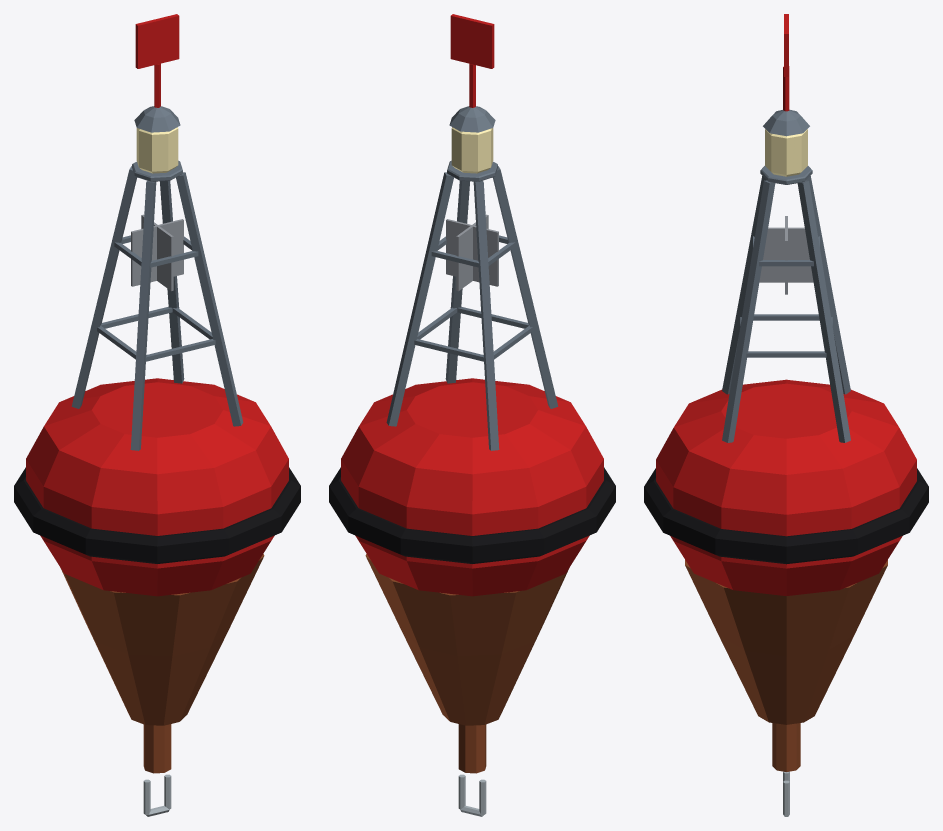
Rendered from HARBOR_09.obj.
The picture shows the model from 3 angles, left to right: view 1: azimuth 30°, elevation 25°; view 2: azimuth 150°, elevation 25°; view 3: azimuth 270°, elevation 25°; orthographic projection.
Parts seen in each view (by area): view 1: HARBOR_09__float_deck, HARBOR_09__keel, HARBOR_09__float_red, HARBOR_09__tower, HARBOR_09__fender_ring, HARBOR_09__tower_ring, HARBOR_09__topmark, HARBOR_09__radar_reflector, HARBOR_09__lantern, HARBOR_09__lantern_cap, HARBOR_09__mooring_eye, HARBOR_09__lantern_base; view 2: HARBOR_09__float_deck, HARBOR_09__keel, HARBOR_09__float_red, HARBOR_09__tower, HARBOR_09__fender_ring, HARBOR_09__topmark, HARBOR_09__tower_ring, HARBOR_09__radar_reflector, HARBOR_09__lantern, HARBOR_09__lantern_cap, HARBOR_09__mooring_eye, HARBOR_09__lantern_base; view 3: HARBOR_09__float_deck, HARBOR_09__keel, HARBOR_09__float_red, HARBOR_09__tower, HARBOR_09__fender_ring, HARBOR_09__radar_reflector, HARBOR_09__lantern, HARBOR_09__tower_ring, HARBOR_09__lantern_cap, HARBOR_09__topmark.
Boxes of the visible parts, x1,y1,x2,y2 form: HARBOR_09__float_deck: (26, 378, 288, 514); HARBOR_09__keel: (60, 554, 264, 773); HARBOR_09__float_red: (26, 459, 288, 596); HARBOR_09__tower: (71, 166, 243, 450); HARBOR_09__fender_ring: (14, 467, 300, 563); HARBOR_09__tower_ring: (97, 235, 215, 361); HARBOR_09__topmark: (135, 14, 179, 107); HARBOR_09__radar_reflector: (131, 214, 183, 291); HARBOR_09__lantern: (136, 127, 178, 173); HARBOR_09__lantern_cap: (134, 106, 180, 132); HARBOR_09__mooring_eye: (143, 774, 171, 816); HARBOR_09__lantern_base: (132, 160, 182, 181); HARBOR_09__float_deck: (341, 378, 603, 514); HARBOR_09__keel: (365, 554, 569, 773); HARBOR_09__float_red: (341, 459, 603, 596); HARBOR_09__tower: (386, 166, 558, 450); HARBOR_09__fender_ring: (329, 467, 615, 563); HARBOR_09__topmark: (450, 14, 494, 107); HARBOR_09__tower_ring: (414, 235, 532, 361); HARBOR_09__radar_reflector: (446, 214, 498, 291); HARBOR_09__lantern: (451, 127, 493, 173); HARBOR_09__lantern_cap: (449, 106, 495, 132); HARBOR_09__mooring_eye: (458, 774, 486, 816); HARBOR_09__lantern_base: (447, 160, 497, 181); HARBOR_09__float_deck: (656, 379, 916, 514); HARBOR_09__keel: (685, 560, 887, 771); HARBOR_09__float_red: (656, 460, 916, 595); HARBOR_09__tower: (722, 176, 850, 442); HARBOR_09__fender_ring: (644, 468, 928, 564); HARBOR_09__radar_reflector: (759, 216, 813, 294); HARBOR_09__lantern: (765, 129, 807, 176); HARBOR_09__tower_ring: (740, 236, 832, 357); HARBOR_09__lantern_cap: (763, 109, 809, 136); HARBOR_09__topmark: (783, 14, 789, 111).
Size of the model in its own units: 2.4 by 7.33 by 2.4.
